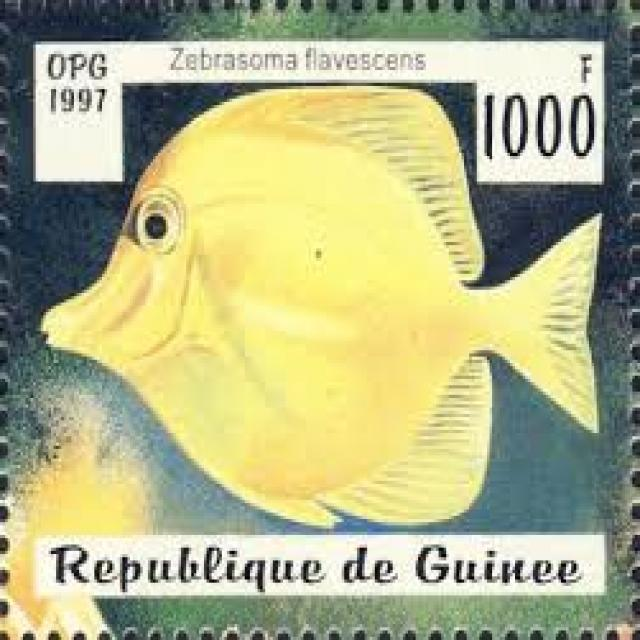YellowTang: (61, 77, 591, 524)
